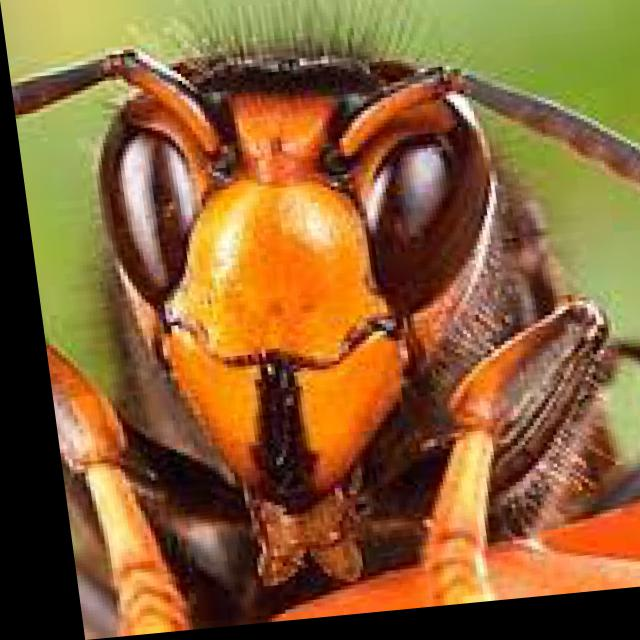Vespa Velutina: (1, 0, 639, 638)
